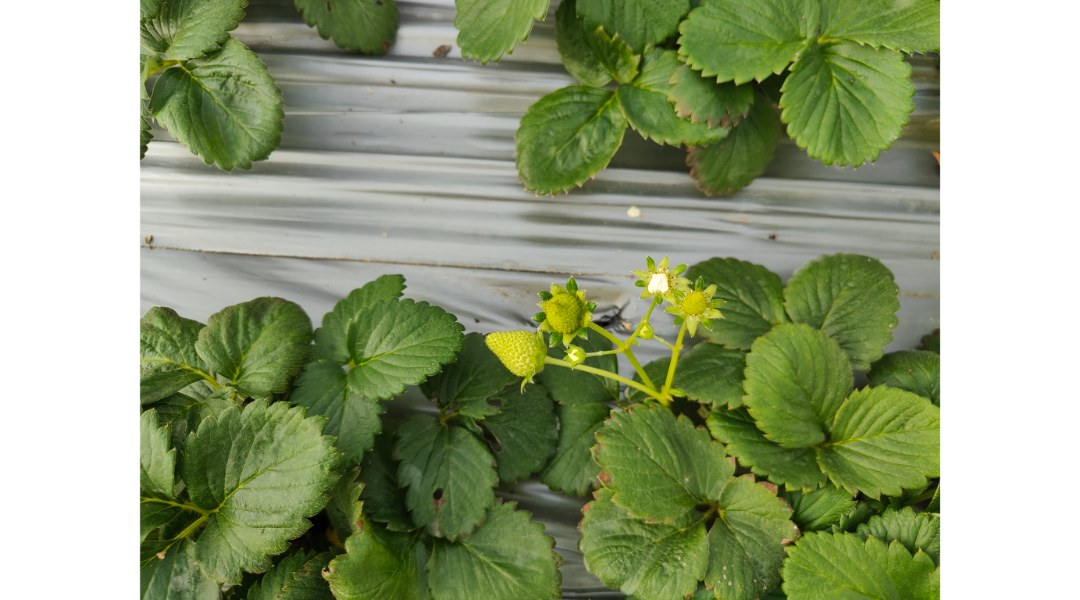berry: (528, 276, 601, 353), (480, 319, 549, 393), (669, 271, 729, 332), (627, 252, 687, 313)
strain: (550, 354, 633, 393), (668, 322, 688, 412), (582, 318, 623, 344)
